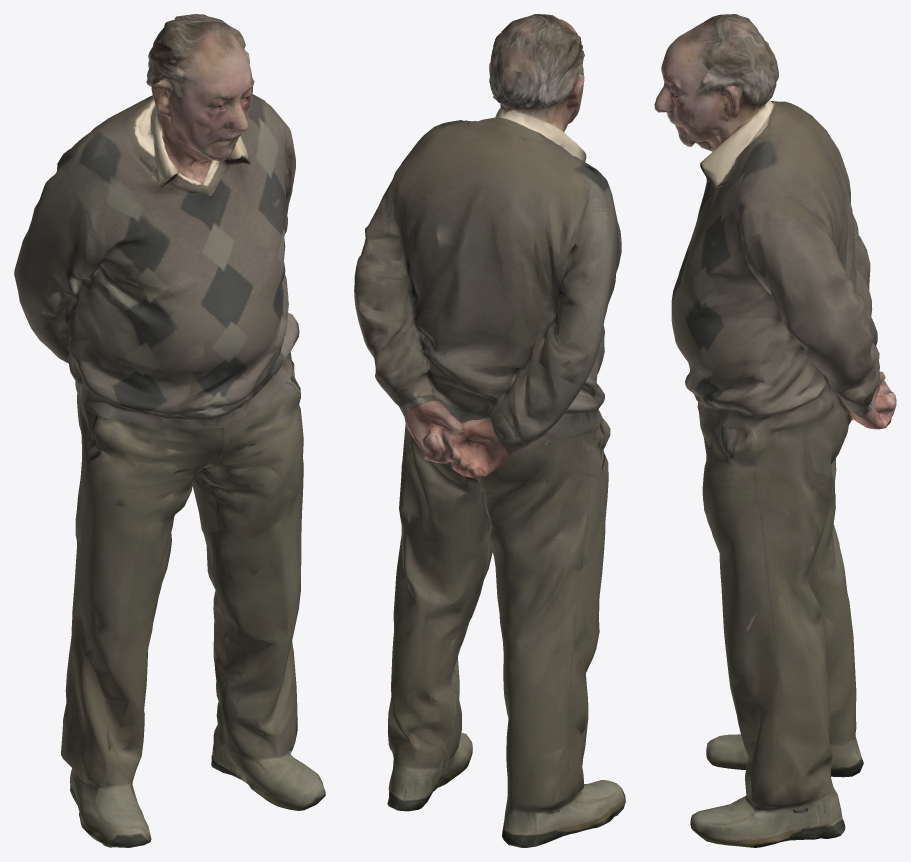
File: laoren1.fbx
3 renders of one model, left to right at view 1: azimuth 30°, elevation 25°; view 2: azimuth 150°, elevation 25°; view 3: azimuth 270°, elevation 25°, orthographic. The views are drawn at different scales.
Visible parts, largest first — view 1: file:transform1; view 2: file:transform1; view 3: file:transform1.
Boxes of the visible parts, bbox=[...] form: file:transform1: bbox=[14, 14, 325, 847]; file:transform1: bbox=[354, 14, 625, 847]; file:transform1: bbox=[654, 14, 896, 847].
Bounding box in the file's own units: 7.61 × 23.01 × 6.51.
1 material, 1 textured.
